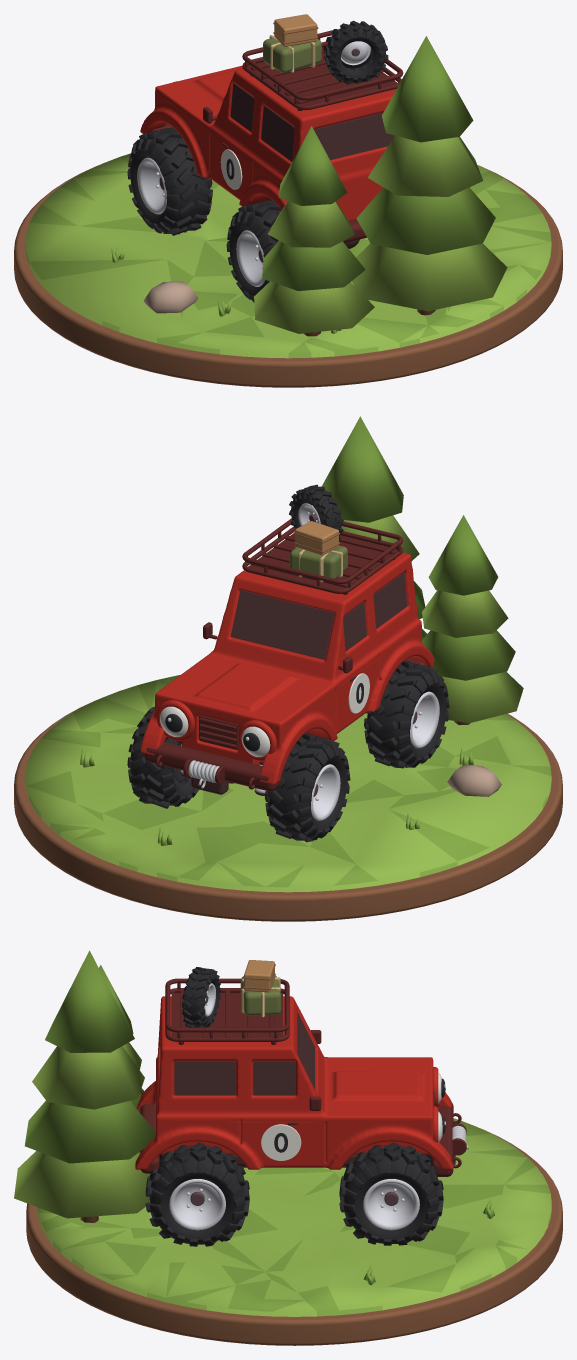
File: red_jeep_diorama.glb
3 renders of one model, top to bottom at view 1: azimuth 30°, elevation 25°; view 2: azimuth 150°, elevation 25°; view 3: azimuth 270°, elevation 25°, orthographic. The views are drawn at different scales.
Parts seen in each view (by area): view 1: ground_grass.001, ground_dirt.001, car_hero_body.001, pine_a_tier0.001, pine_a_tier1.001, car_hero_wheel_FR.001, pine_a_tier3.001, pine_a_tier2.001, pine_b_tier0.001, pine_b_tier1.001, pine_b_tier3.001, pine_b_tier2.001 (+15 smaller); view 2: ground_grass.001, car_hero_body.001, ground_dirt.001, car_hero_wheel_RR.001, car_hero_wheel_FR.001, pine_a_tier3.001, windshield.001, pine_b_tier1.001, pine_b_tier3.001, pine_b_tier2.001, pine_b_tier0.001, car_hero_wheel_FL.001 (+13 smaller); view 3: ground_grass.001, car_hero_body.001, ground_dirt.001, pine_a_tier0.001, pine_a_tier1.001, car_hero_wheel_FL.001, car_hero_wheel_RL.001, pine_a_tier2.001, pine_a_tier3.001, window_1_-1.001, car_hero_wheel_FL_rim.001, car_hero_wheel_RL_rim.001 (+10 smaller).
Part boxes in pixels (x1=…): ground_grass.001: x1=25, y1=153, x2=551, y2=358; ground_dirt.001: x1=14, y1=165, x2=562, y2=387; car_hero_body.001: x1=140, y1=65, x2=396, y2=220; pine_a_tier0.001: x1=351, y1=243, x2=507, y2=311; pine_a_tier1.001: x1=356, y1=187, x2=495, y2=254; car_hero_wheel_FR.001: x1=127, y1=127, x2=212, y2=235; pine_a_tier3.001: x1=382, y1=36, x2=473, y2=142; pine_a_tier2.001: x1=367, y1=135, x2=483, y2=196; pine_b_tier0.001: x1=254, y1=281, x2=374, y2=333; pine_b_tier1.001: x1=262, y1=240, x2=365, y2=290; pine_b_tier3.001: x1=278, y1=126, x2=347, y2=205; pine_b_tier2.001: x1=268, y1=201, x2=355, y2=247; ground_grass.001: x1=25, y1=675, x2=551, y2=892; car_hero_body.001: x1=140, y1=552, x2=434, y2=784; ground_dirt.001: x1=14, y1=700, x2=562, y2=921; car_hero_wheel_RR.001: x1=364, y1=661, x2=449, y2=768; car_hero_wheel_FR.001: x1=265, y1=733, x2=350, y2=842; pine_a_tier3.001: x1=321, y1=416, x2=403, y2=522; windshield.001: x1=230, y1=590, x2=334, y2=659; pine_b_tier1.001: x1=422, y1=630, x2=515, y2=680; pine_b_tier3.001: x1=428, y1=515, x2=498, y2=595; pine_b_tier2.001: x1=422, y1=590, x2=508, y2=637; pine_b_tier0.001: x1=441, y1=671, x2=523, y2=723; car_hero_wheel_FL.001: x1=127, y1=707, x2=198, y2=808; ground_grass.001: x1=37, y1=1118, x2=551, y2=1316; car_hero_body.001: x1=135, y1=996, x2=453, y2=1169; ground_dirt.001: x1=26, y1=1128, x2=562, y2=1345; pine_a_tier0.001: x1=14, y1=1151, x2=150, y2=1218; pine_a_tier1.001: x1=24, y1=1101, x2=155, y2=1163; car_hero_wheel_FL.001: x1=339, y1=1142, x2=443, y2=1245; car_hero_wheel_RL.001: x1=145, y1=1142, x2=249, y2=1246; pine_a_tier2.001: x1=32, y1=1046, x2=144, y2=1109; pine_a_tier3.001: x1=45, y1=950, x2=134, y2=1052; window_1_-1.001: x1=174, y1=1061, x2=235, y2=1095; car_hero_wheel_FL_rim.001: x1=363, y1=1179, x2=419, y2=1230; car_hero_wheel_RL_rim.001: x1=169, y1=1179, x2=225, y2=1230.
Bounding box in the file's own units: 7.2 × 4.43 × 7.36.
